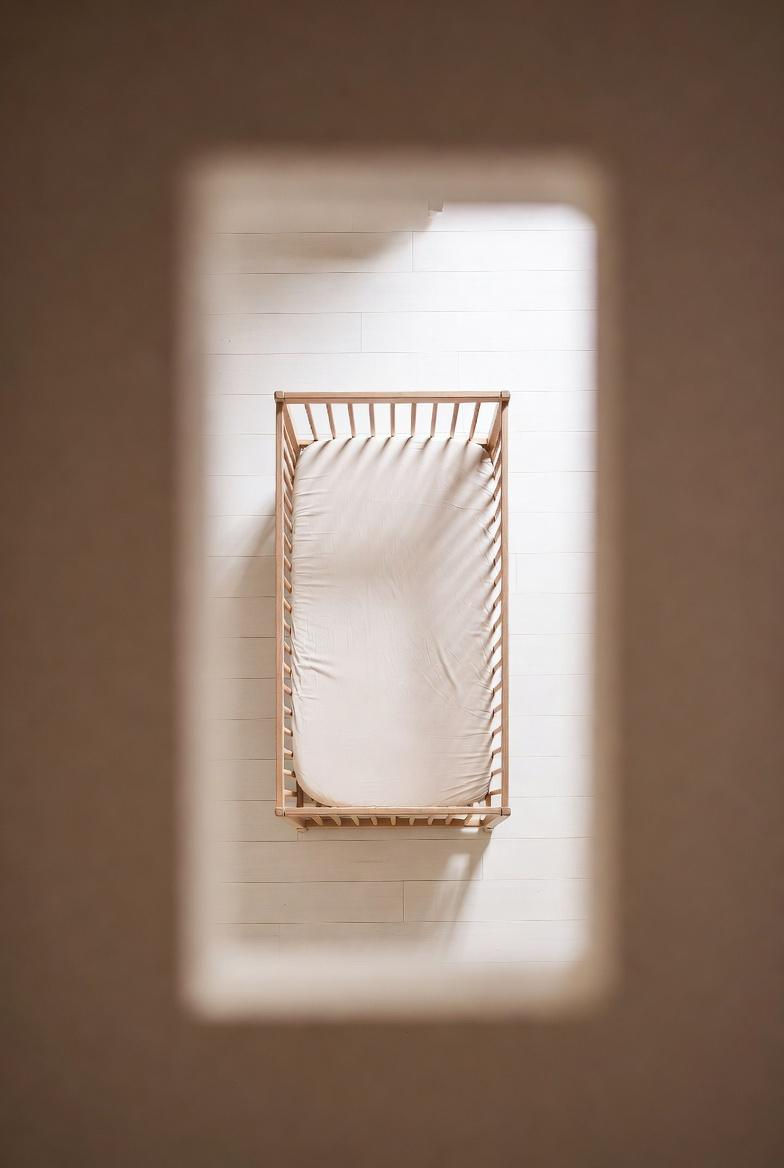crib: (275, 391, 510, 830)
